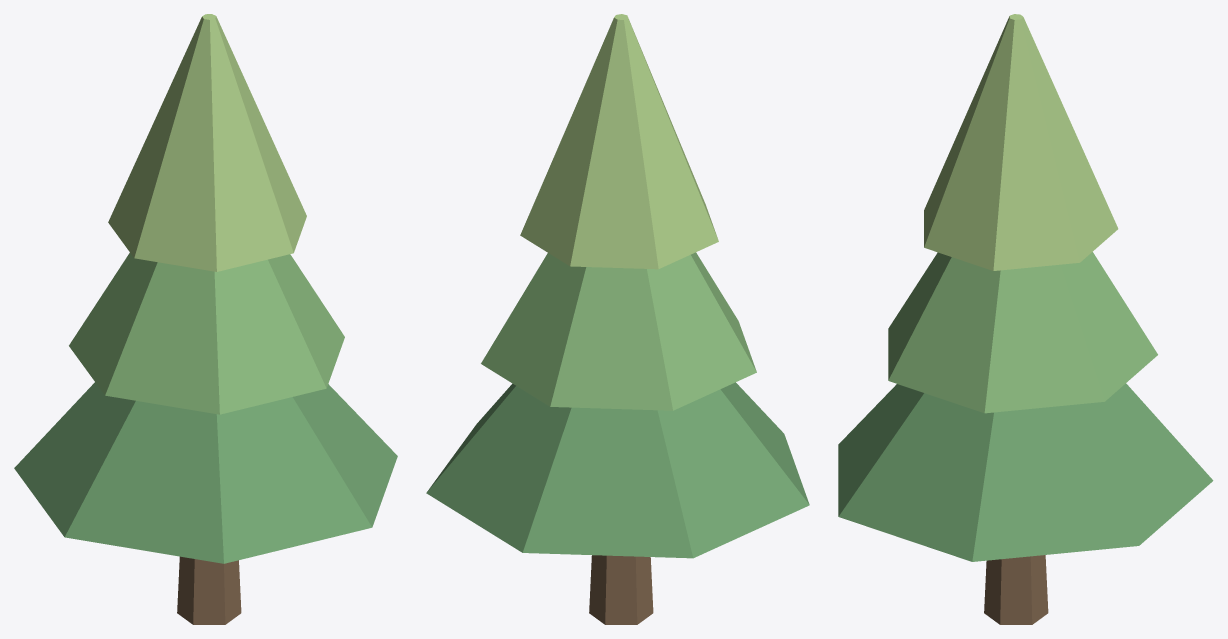
The model's file is tree_pine.glb.
The picture shows the model from 3 angles, left to right: view 1: azimuth 30°, elevation 25°; view 2: azimuth 150°, elevation 25°; view 3: azimuth 270°, elevation 25°; orthographic projection.
Parts seen in each view (by area): view 1: tree_pine; view 2: tree_pine; view 3: tree_pine.
Part boxes in pixels (<box>): tree_pine: <box>14,14,397,624</box>; tree_pine: <box>426,14,809,624</box>; tree_pine: <box>838,14,1213,624</box>.
Bounding box in the file's own units: 2.63 × 4.5 × 2.57.
